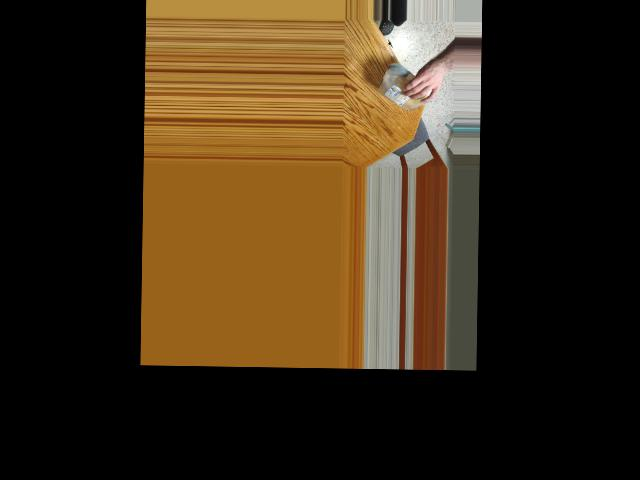cheese: (379, 65, 435, 112)
